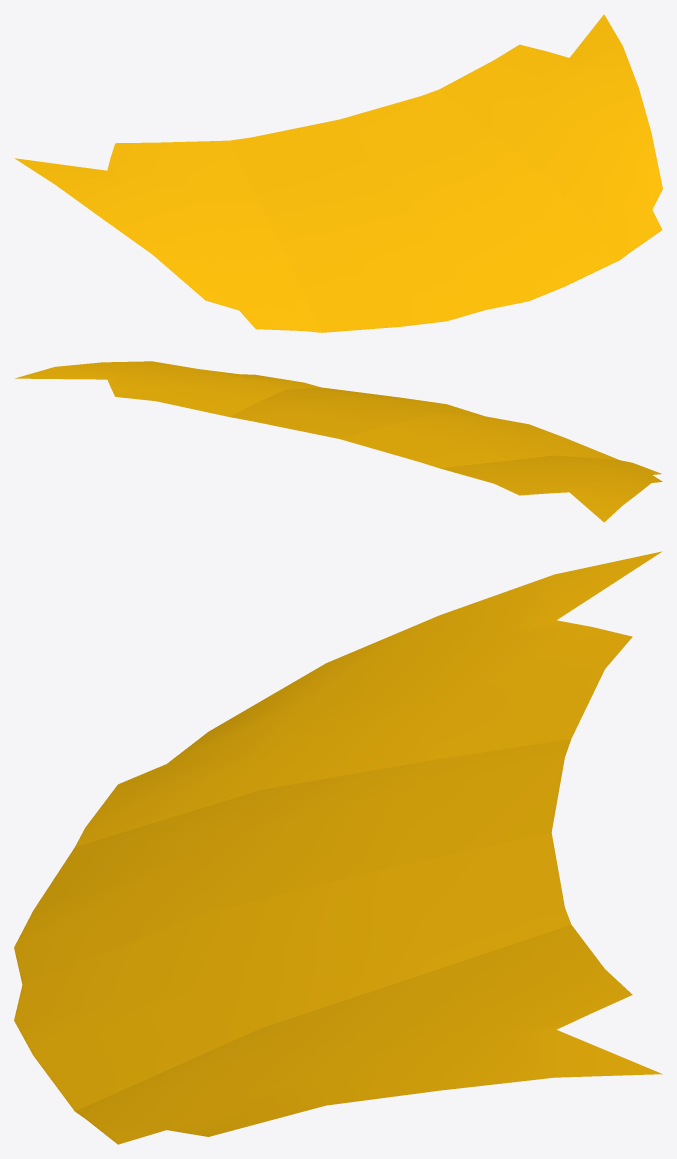
File: CofreFBX.fbx
3 renders of one model, top to bottom at view 1: azimuth 30°, elevation 25°; view 2: azimuth 150°, elevation 25°; view 3: azimuth 270°, elevation 25°, orthographic. The views are drawn at different scales.
Parts seen in each view (by area): view 1: Cofre; view 2: Cofre; view 3: Cofre.
Boxes of the visible parts, bbox=[...] form: Cofre: bbox=[14, 14, 662, 332]; Cofre: bbox=[15, 361, 662, 522]; Cofre: bbox=[14, 551, 662, 1144].
Bounding box in the file's own units: 29.71 × 4.56 × 15.59.
